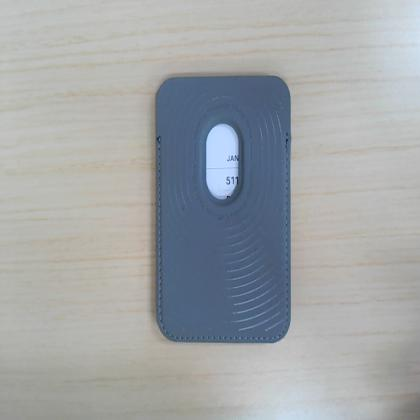pics: (156, 76, 291, 341)
